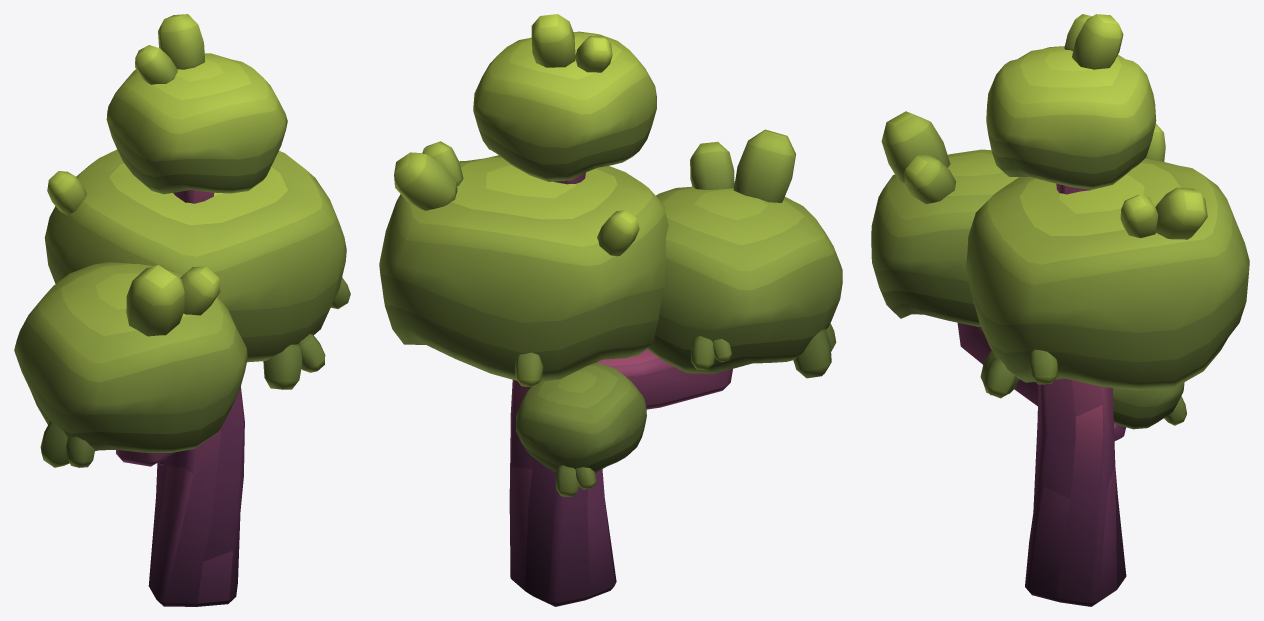
File: grassland_tree_col1_4.fbx
3 views of the same model, side by side, from view 1: azimuth 30°, elevation 25°; view 2: azimuth 150°, elevation 25°; view 3: azimuth 270°, elevation 25° (orthographic). The views are drawn at different scales.
Parts seen in each view (by area): view 1: grassland_tree_col1_4; view 2: grassland_tree_col1_4; view 3: grassland_tree_col1_4.
Boxes of the visible parts, bbox=[...] form: grassland_tree_col1_4: bbox=[14, 14, 350, 606]; grassland_tree_col1_4: bbox=[379, 14, 842, 606]; grassland_tree_col1_4: bbox=[871, 14, 1249, 606].
Size of the model in its own units: 663 by 1031 by 618.
Materials: 1 (1 with a texture image).
